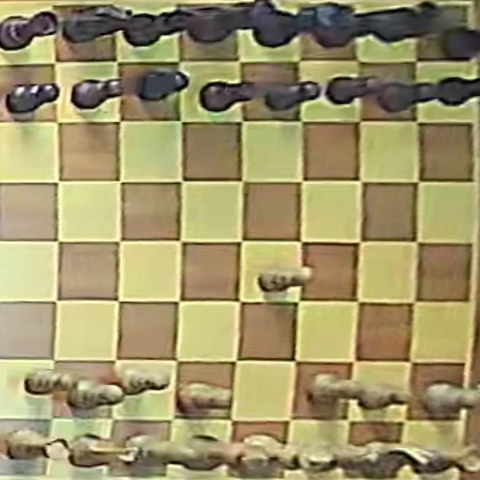black-bishop: (310, 9, 404, 49), (121, 8, 198, 49)
black-king: (249, 2, 359, 48)
black-knight: (373, 0, 444, 46), (63, 5, 136, 48)
black-pawn: (377, 80, 444, 114), (325, 76, 386, 106), (201, 81, 257, 113), (5, 83, 59, 116), (262, 81, 319, 111), (138, 69, 189, 101), (434, 74, 480, 108), (72, 78, 122, 109)
black-queen: (185, 3, 277, 43)
black-rook: (0, 11, 58, 51), (441, 26, 480, 60)
white-bishop: (118, 432, 202, 468), (305, 440, 382, 476)
white-king: (245, 432, 340, 474)
white-knight: (360, 440, 434, 476), (68, 435, 137, 468)
white-pawn: (419, 380, 479, 418), (66, 379, 124, 411), (309, 373, 367, 405), (177, 382, 231, 415), (118, 365, 171, 395), (354, 382, 409, 410), (26, 369, 80, 396), (258, 267, 312, 292)
white-queen: (181, 434, 271, 475)
white-rook: (412, 442, 478, 477), (5, 429, 72, 463)
